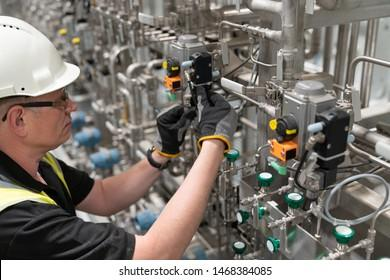gloves: (193, 89, 238, 154), (154, 102, 196, 156)
